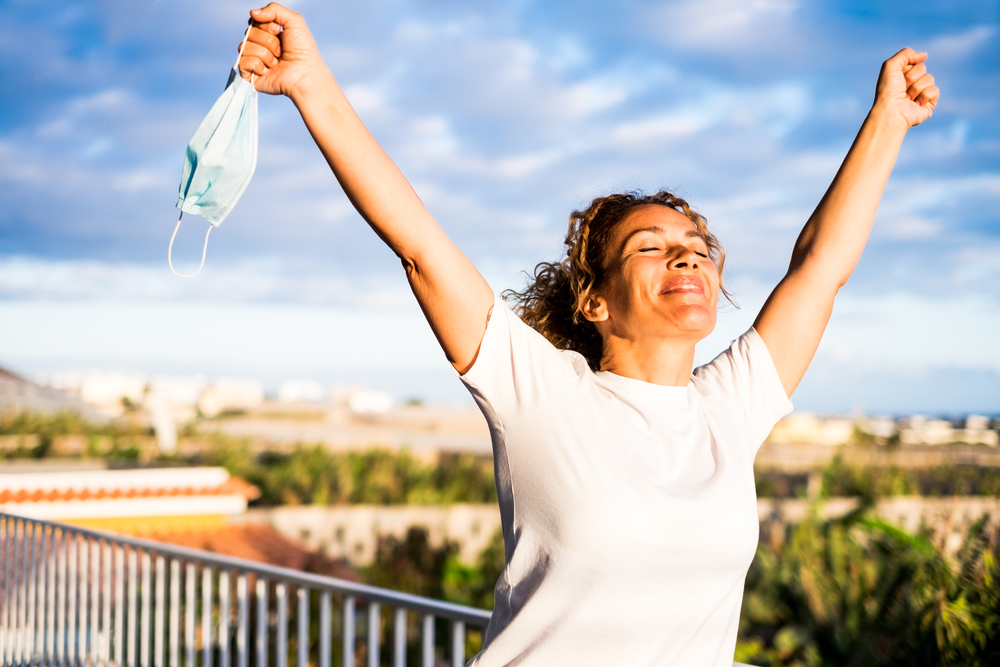no_mask: (565, 187, 727, 353)
